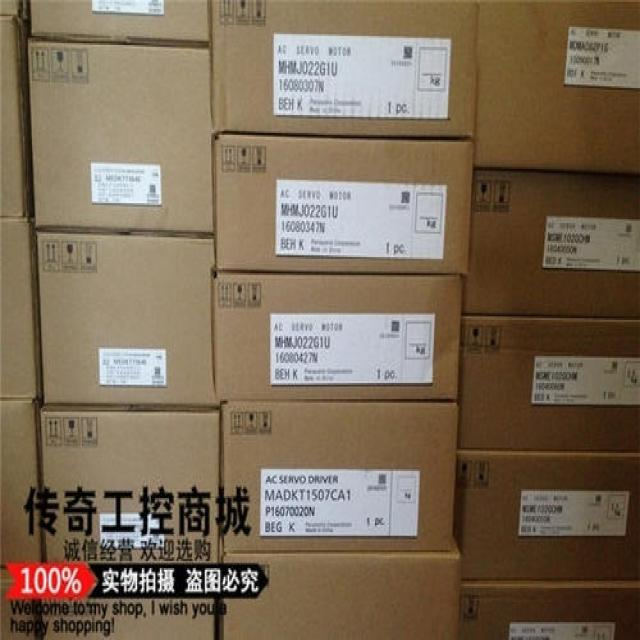box: (28, 39, 214, 237), (211, 137, 476, 274), (208, 3, 477, 136), (221, 402, 458, 551), (211, 274, 461, 403), (34, 232, 216, 409), (42, 410, 219, 580), (475, 3, 639, 174), (463, 165, 639, 318), (457, 318, 639, 453), (453, 454, 639, 582), (223, 551, 459, 638), (458, 582, 639, 638), (29, 0, 209, 44), (0, 397, 42, 574), (0, 216, 41, 397), (38, 598, 216, 638), (0, 11, 34, 216), (0, 1, 29, 23)
